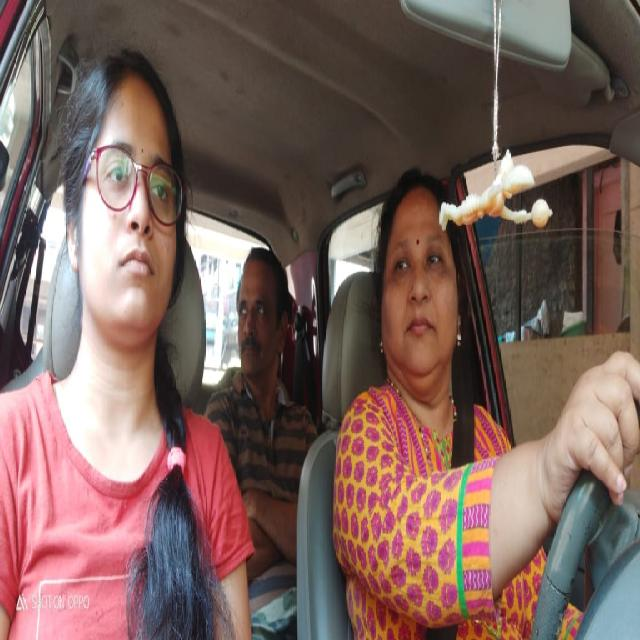drowsy: (374, 165, 466, 403)
person: (62, 40, 186, 355), (233, 245, 292, 390)
